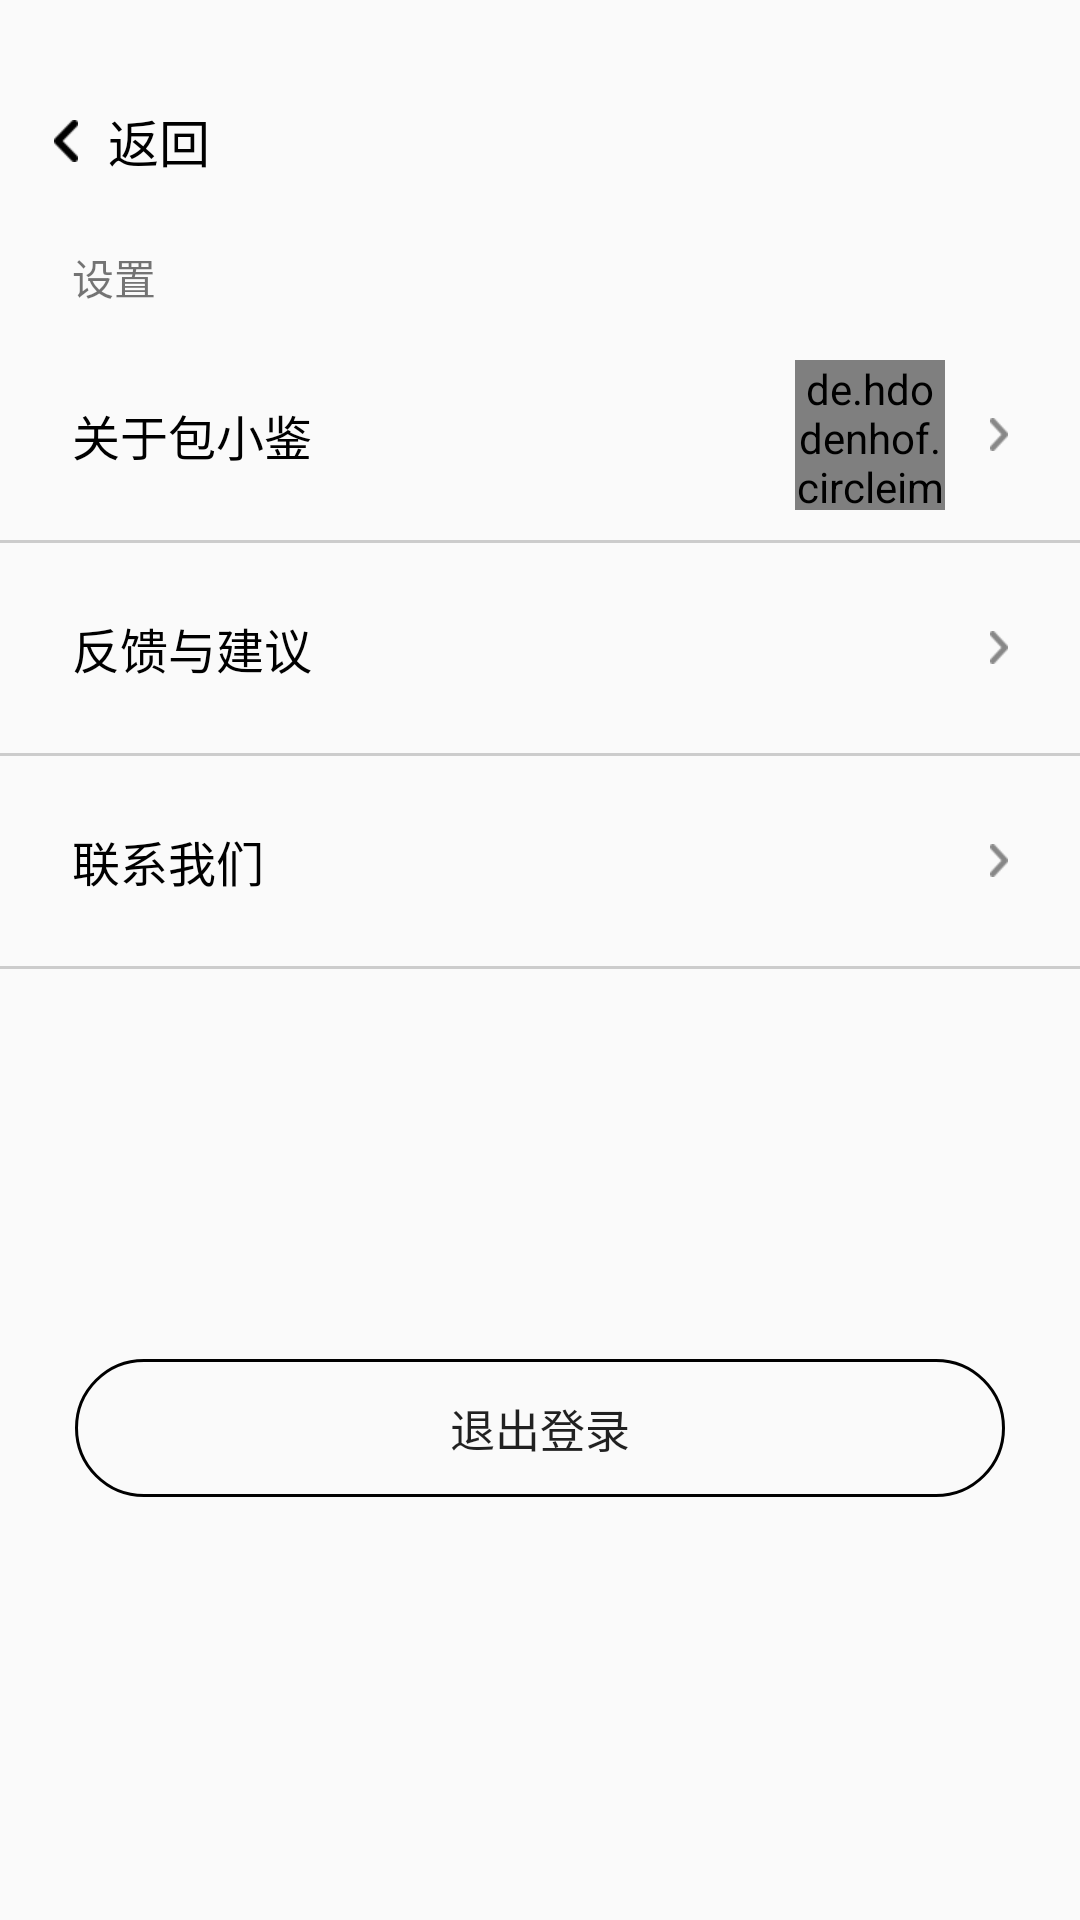

Icons on this 1080x1920 Android screen, each with its box as rect(x1, y1, x2, y2):
backarrow: rect(54, 120, 78, 162)
